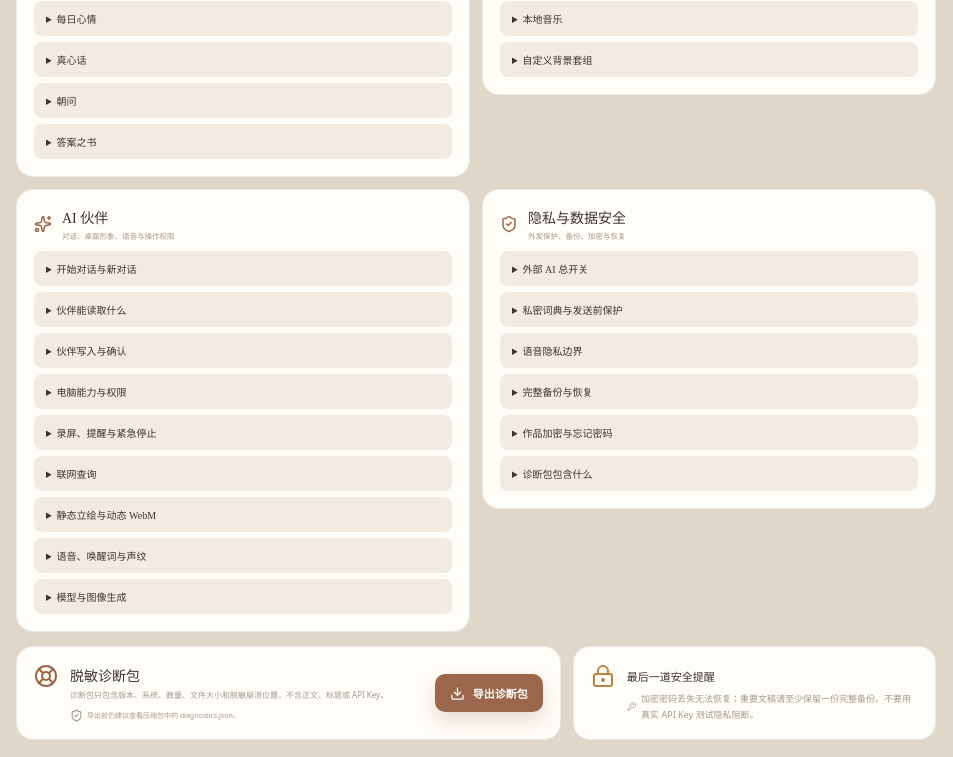
HelpView › explains that browser preview cannot create a desktop diagnostic package
(page scrolled)
Step 1. Click the button "导出诊断包" → [489, 693], box [435,674,543,712]
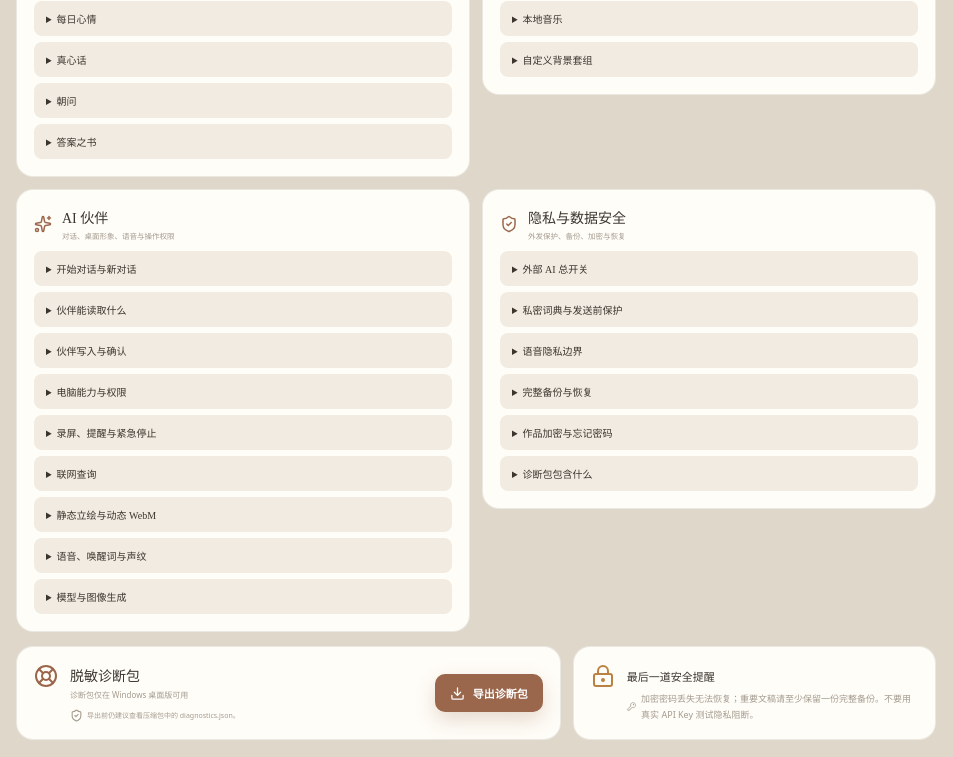
Check: the text "诊断包仅在 Windows 桌面版可用" is shown, box [70,689,188,700]
